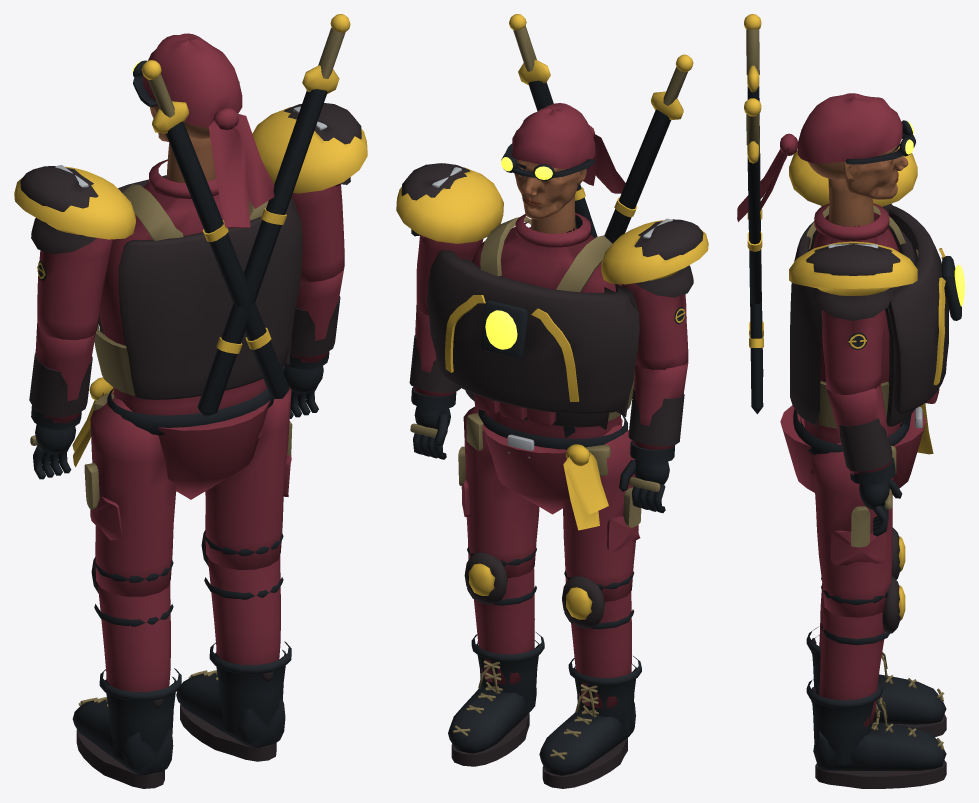
Rendered from kf-kobra.glb.
The picture shows the model from 3 angles, left to right: view 1: azimuth 30°, elevation 25°; view 2: azimuth 150°, elevation 25°; view 3: azimuth 270°, elevation 25°; orthographic projection. The views are drawn at different scales.
Parts seen in each view (by area): view 1: Torso Ceramic armor, Actor Rubber and hair, Leg_R Woven uniform, ArmorPlates Unit insignia, Torso Woven uniform, Head Woven uniform, Knee_L Rubber and hair, Knee_R Rubber and hair, Leg_L Woven uniform, Knee_R Woven uniform, Knee_L Woven uniform, Arm_R Woven uniform (+12 smaller); view 2: ArmorPlates Ceramic armor, ArmorPlates Unit insignia, Torso Woven uniform, Knee_R Rubber and hair, Knee_L Rubber and hair, Leg_L Woven uniform, Leg_R Woven uniform, Actor Rubber and hair, Head Woven uniform, Knee_L Woven uniform, Knee_R Woven uniform, Torso Webbing (+21 smaller); view 3: Knee_L Rubber and hair, Leg_L Woven uniform, ArmorPlates Unit insignia, ArmorPlates Ceramic armor, Head Woven uniform, Torso Woven uniform, Torso Ceramic armor, Actor Rubber and hair, Knee_L Woven uniform, Arm_L Woven uniform, Knee_R Rubber and hair, Head Skin (+13 smaller).
Part boxes in pixels (bbox=[...]): Torso Ceramic armor: bbox=[98, 198, 302, 399]; Actor Rubber and hair: bbox=[141, 14, 350, 417]; Leg_R Woven uniform: bbox=[90, 398, 176, 596]; ArmorPlates Unit insignia: bbox=[14, 103, 367, 239]; Torso Woven uniform: bbox=[99, 159, 270, 499]; Head Woven uniform: bbox=[142, 33, 274, 227]; Knee_L Rubber and hair: bbox=[176, 533, 291, 761]; Knee_R Rubber and hair: bbox=[72, 560, 181, 788]; Leg_L Woven uniform: bbox=[205, 387, 291, 569]; Knee_R Woven uniform: bbox=[97, 582, 170, 691]; Knee_L Woven uniform: bbox=[207, 555, 280, 665]; Arm_R Woven uniform: bbox=[37, 238, 112, 339]; ArmorPlates Ceramic armor: bbox=[427, 250, 639, 416]; ArmorPlates Unit insignia: bbox=[396, 163, 708, 401]; Torso Woven uniform: bbox=[472, 213, 622, 514]; Knee_R Rubber and hair: bbox=[539, 570, 641, 788]; Knee_L Rubber and hair: bbox=[448, 547, 544, 766]; Leg_L Woven uniform: bbox=[461, 406, 539, 578]; Leg_R Woven uniform: bbox=[563, 425, 640, 601]; Actor Rubber and hair: bbox=[509, 14, 693, 243]; Head Woven uniform: bbox=[511, 103, 625, 193]; Knee_L Woven uniform: bbox=[474, 568, 534, 684]; Knee_R Woven uniform: bbox=[571, 591, 631, 707]; Torso Webbing: bbox=[466, 216, 634, 476]; Knee_L Rubber and hair: bbox=[806, 584, 946, 788]; Leg_L Woven uniform: bbox=[812, 442, 893, 617]; ArmorPlates Unit insignia: bbox=[789, 143, 945, 385]; ArmorPlates Ceramic armor: bbox=[882, 203, 948, 413]; Head Woven uniform: bbox=[737, 93, 902, 221]; Torso Woven uniform: bbox=[780, 203, 939, 492]; Torso Ceramic armor: bbox=[790, 218, 918, 430]; Actor Rubber and hair: bbox=[744, 14, 763, 414]; Knee_L Woven uniform: bbox=[819, 606, 885, 726]; Arm_L Woven uniform: bbox=[821, 309, 884, 394]; Knee_R Rubber and hair: bbox=[806, 577, 946, 737]; Head Skin: bbox=[808, 145, 908, 199].
Bounding box in the file's own units: 0.913 × 2 × 0.5929.
